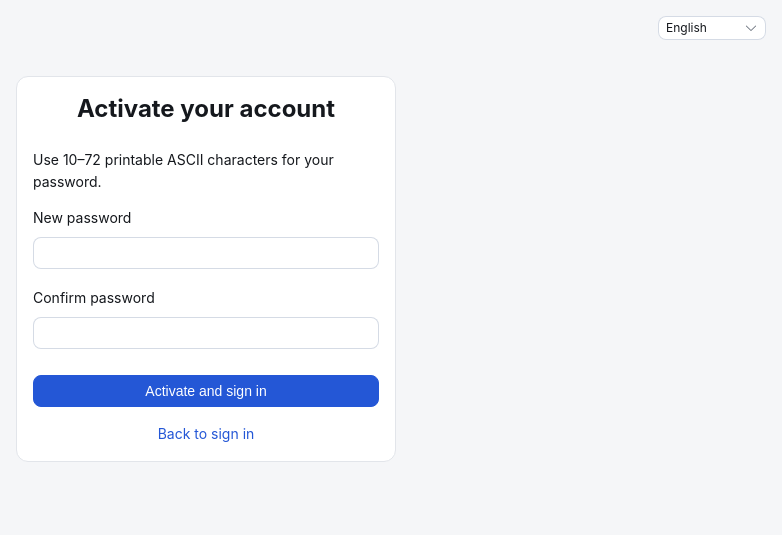
Test: activation and reset links › blocks mismatched passwords before requesting activation
Type "Test-password1" into the password field labelled "New password" at (206, 253), box x1=44 y1=238 x2=368 y2=268
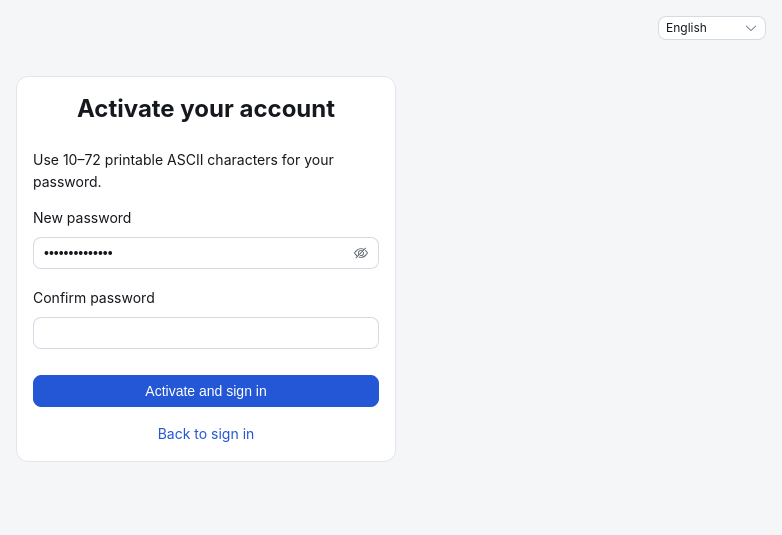
Type "Test-password2" into the password field labelled "Confirm password" at (206, 333), box x1=44 y1=318 x2=368 y2=348
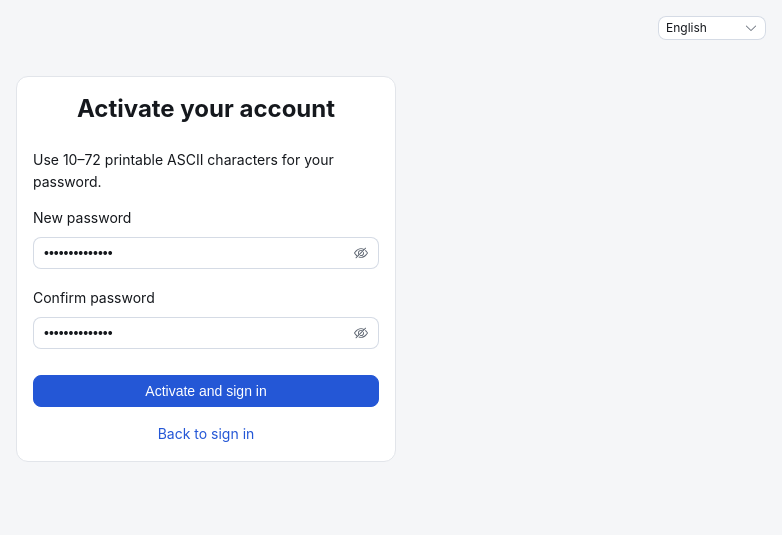
Submit the form, box x1=33 y1=149 x2=379 y2=407
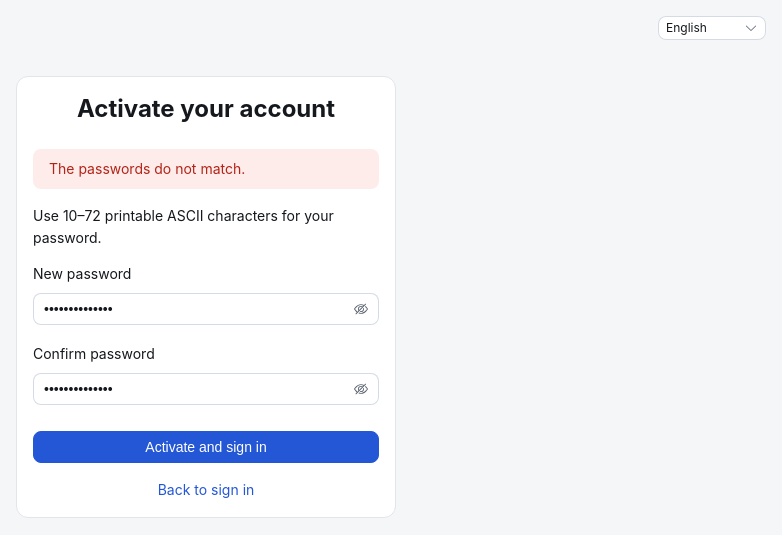
Result: the text "passwords do not match" is shown at x1=49 y1=160 x2=245 y2=177
